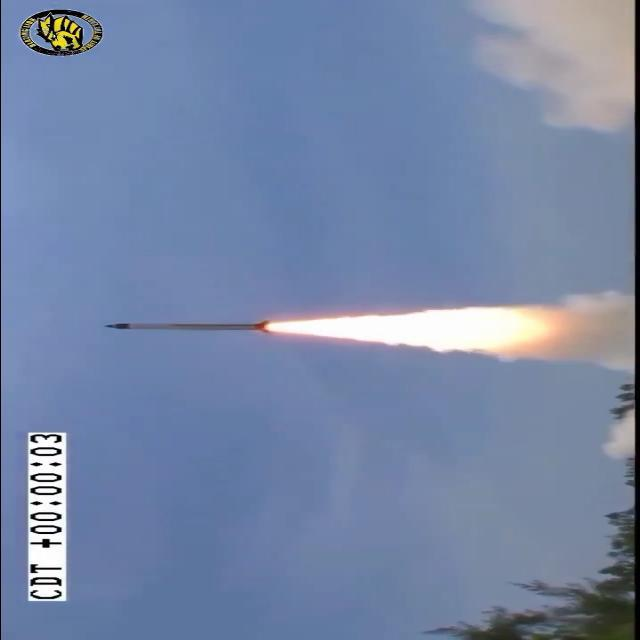Missile: (100, 318, 270, 336)
